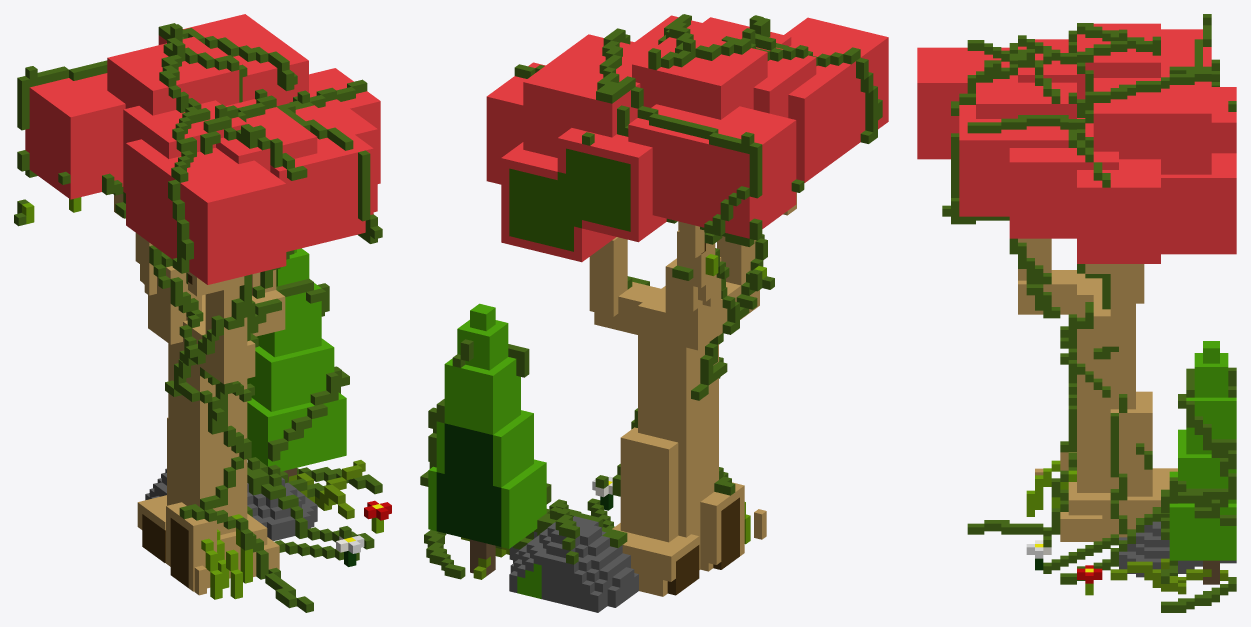
File: tiles 0 morceau 6.obj
The picture shows the model from 3 angles, left to right: view 1: azimuth 30°, elevation 25°; view 2: azimuth 150°, elevation 25°; view 3: azimuth 270°, elevation 25°; orthographic projection. The views are drawn at different scales.
Parts seen in each view (by area): view 1: tiles 0 morceau 6; view 2: tiles 0 morceau 6; view 3: tiles 0 morceau 6.
Boxes of the visible parts, <box> form: tiles 0 morceau 6: <box>14,14,391,612</box>; tiles 0 morceau 6: <box>420,14,888,612</box>; tiles 0 morceau 6: <box>917,14,1236,612</box>.
Bounding box in the file's own units: 44 × 63 × 38.
1 material, 1 textured.
